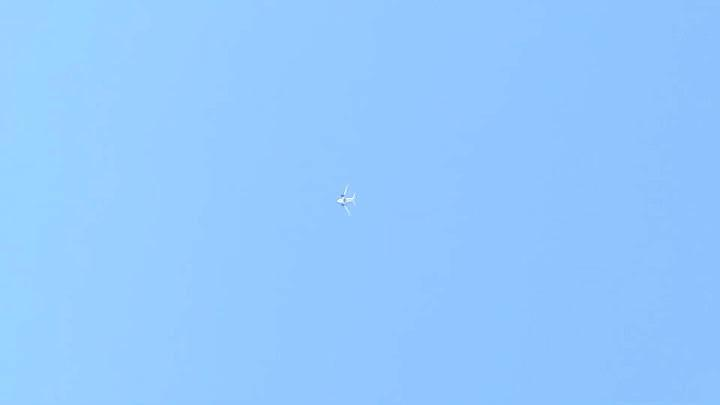Plane: (322, 182, 367, 217)
